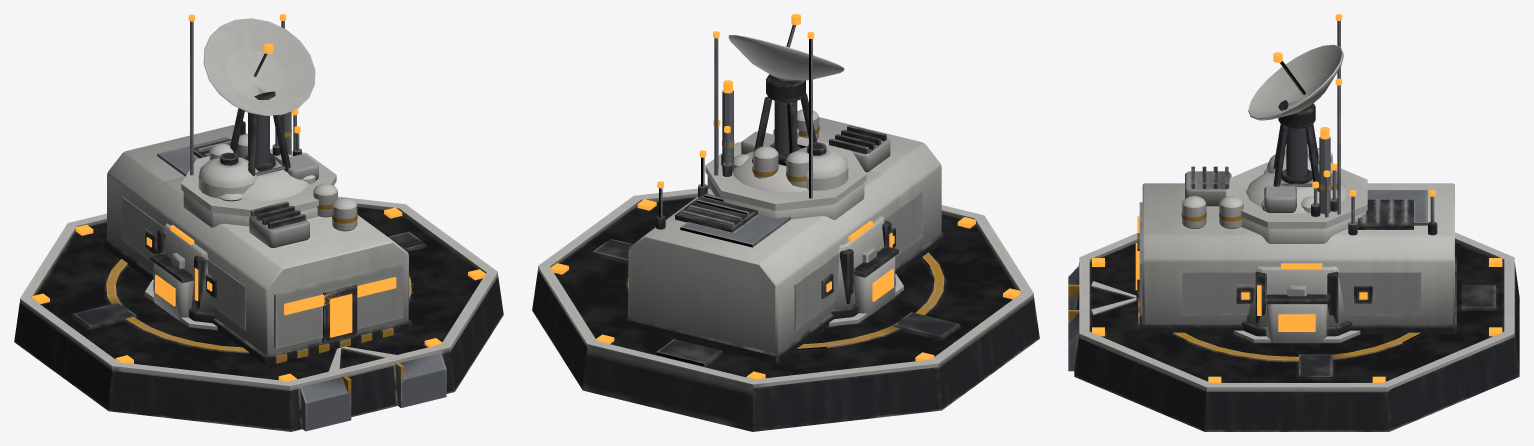
The model's file is facility-kit-v3.glb.
3 views of the same model, side by side, from view 1: azimuth 30°, elevation 25°; view 2: azimuth 150°, elevation 25°; view 3: azimuth 270°, elevation 25° (orthographic). The views are drawn at different scales.
Parts seen in each view (by area): view 1: fk_luna_pad, fk_luna_hall_l, fk_luna_radar, fk_luna_bunker, fk_luna_capsules, fk_luna_tank_l, fk_luna_hall_s; view 2: fk_luna_pad, fk_luna_hall_l, fk_luna_bunker, fk_luna_radar, fk_luna_hall_s, fk_luna_capsules, fk_luna_tank_l, fk_luna_power; view 3: fk_luna_pad, fk_luna_hall_l, fk_luna_bunker, fk_luna_radar, fk_luna_hall_s, fk_luna_tank_l, fk_luna_power, fk_luna_capsules.
Boxes of the visible parts, x1,y1,x2,y2 form: fk_luna_pad: (14,196,503,431); fk_luna_hall_l: (104,121,411,364); fk_luna_radar: (188,14,315,175); fk_luna_bunker: (150,126,336,323); fk_luna_capsules: (198,108,298,198); fk_luna_tank_l: (241,155,309,201); fk_luna_hall_s: (145,154,322,334); fk_luna_pad: (532,188,1039,431); fk_luna_hall_l: (625,109,944,363); fk_luna_bunker: (705,126,898,318); fk_luna_radar: (713,14,844,198); fk_luna_hall_s: (697,150,902,331); fk_luna_capsules: (713,119,848,190); fk_luna_tank_l: (733,145,808,192); fk_luna_power: (722,80,734,171); fk_luna_pad: (1068,232,1519,431); fk_luna_hall_l: (1135,166,1456,333); fk_luna_bunker: (1226,148,1367,342); fk_luna_radar: (1248,14,1343,214); fk_luna_hall_s: (1222,185,1375,333); fk_luna_tank_l: (1246,169,1347,213); fk_luna_power: (1319,127,1330,213); fk_luna_capsules: (1267,150,1330,217).
Bounding box in the file's own units: 4.77 × 3.8 × 4.83.
Materials: 2 (1 with a texture image).
